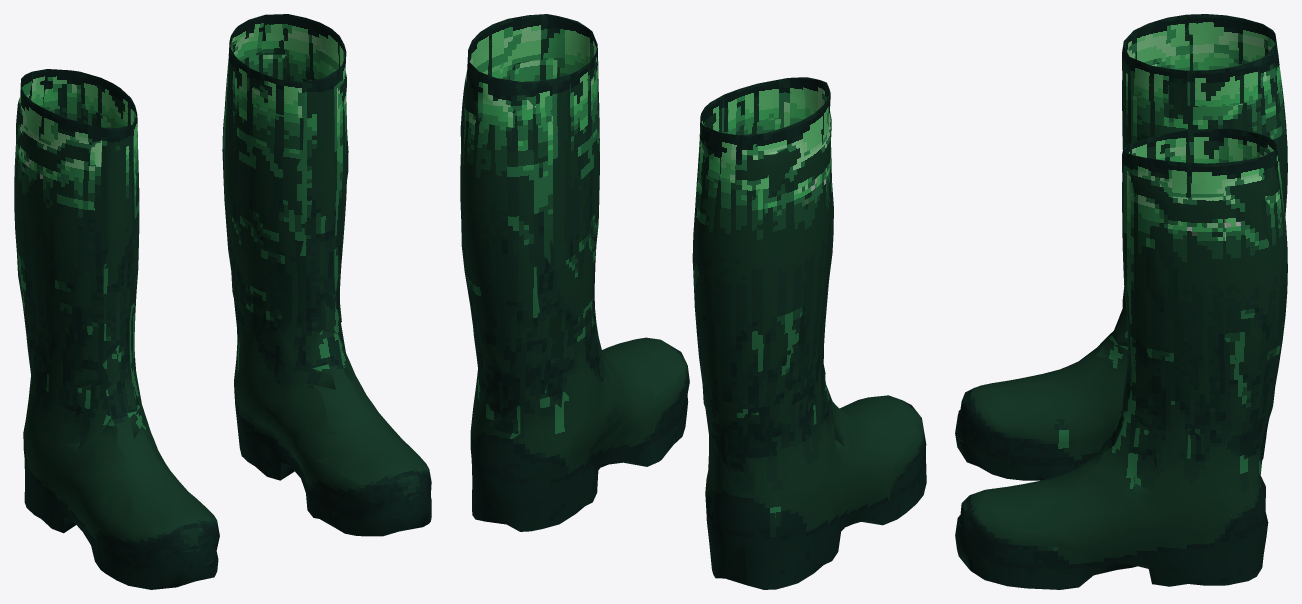
The model's file is rubber_boots_clean.glb.
The picture shows the model from 3 angles, left to right: view 1: azimuth 30°, elevation 25°; view 2: azimuth 150°, elevation 25°; view 3: azimuth 270°, elevation 25°; orthographic projection. The views are drawn at different scales.
Visible parts, largest first — view 1: body; view 2: body; view 3: body.
Part boxes in pixels (bbox=[...]): body: bbox=[14, 14, 431, 589]; body: bbox=[460, 14, 926, 589]; body: bbox=[955, 14, 1287, 589].
Bounding box in the file's own units: 0.2893 × 0.3728 × 0.2645.
Materials: 1 (1 with a texture image).
